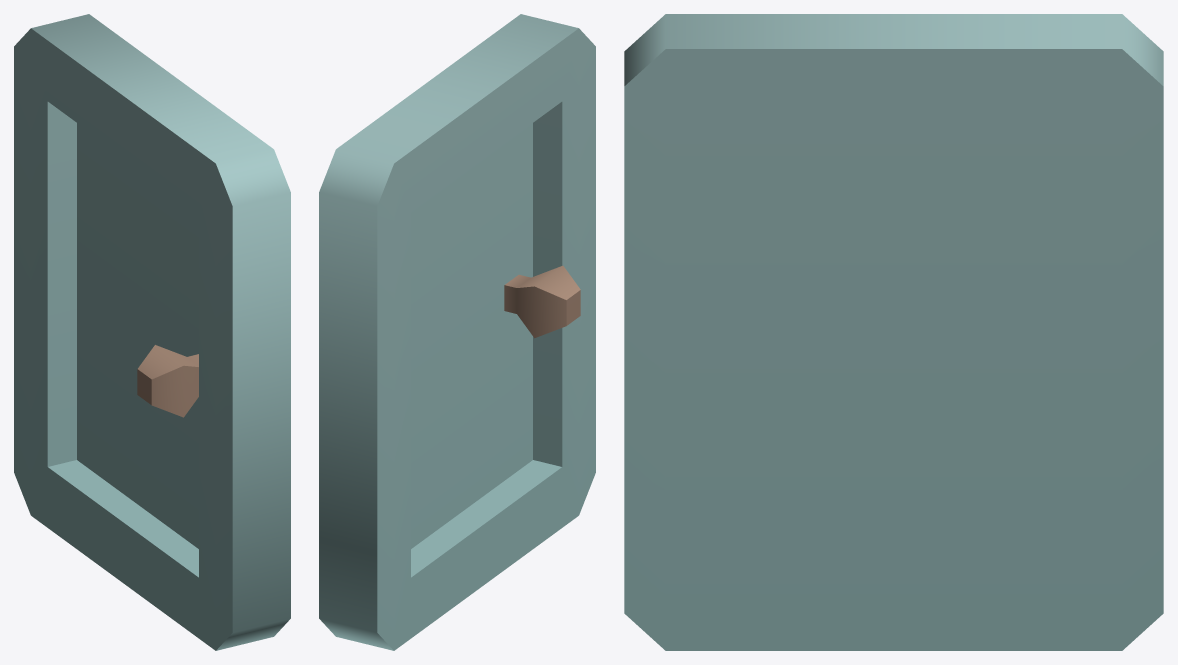
The model's file is (%no-merge) (%open-left) (%low) 13.glb.
The picture shows the model from 3 angles, left to right: view 1: azimuth 30°, elevation 25°; view 2: azimuth 150°, elevation 25°; view 3: azimuth 270°, elevation 25°; orthographic projection. The views are drawn at different scales.
Visible parts, largest first — view 1: (%no-merge) (%open-left) (%low) 13(Clone); view 2: (%no-merge) (%open-left) (%low) 13(Clone); view 3: (%no-merge) (%open-left) (%low) 13(Clone).
Boxes of the visible parts, <box> form: (%no-merge) (%open-left) (%low) 13(Clone): <box>14,14,290,650</box>; (%no-merge) (%open-left) (%low) 13(Clone): <box>319,14,595,650</box>; (%no-merge) (%open-left) (%low) 13(Clone): <box>624,14,1163,650</box>.
Bounding box in the file's own units: 0.0782 × 0.4 × 0.325.
